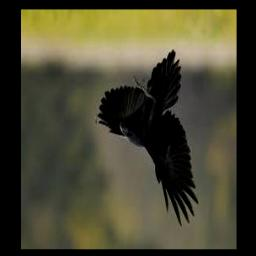Crow: (95, 50, 198, 227)
